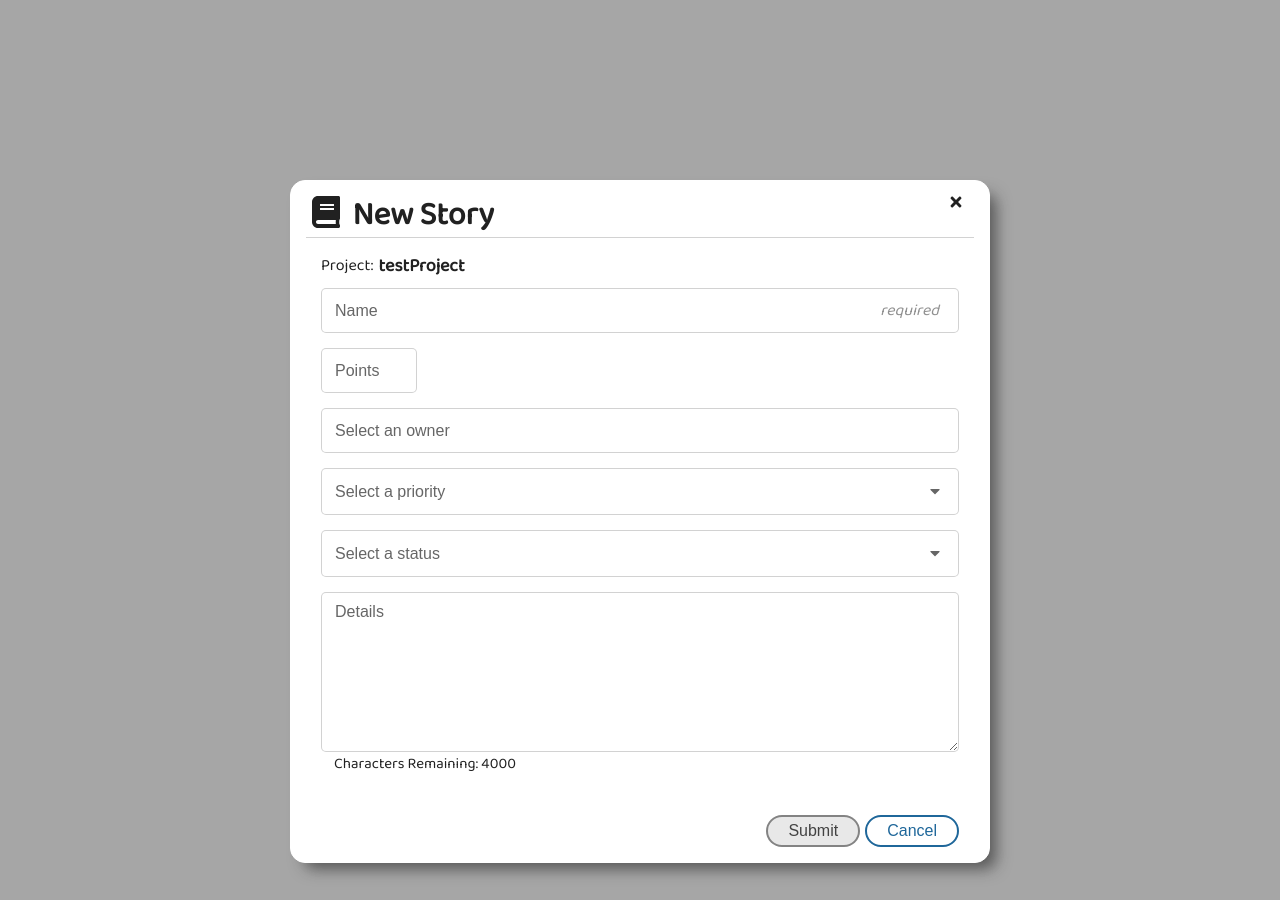
Test: <StoryModal /> › should render 'Characters Remaining' helperText for details
The image size is (1280, 900).
Type "this is a test value" into the text box with test id "detailsInput.input" at (640, 672), box [321,592,959,752]
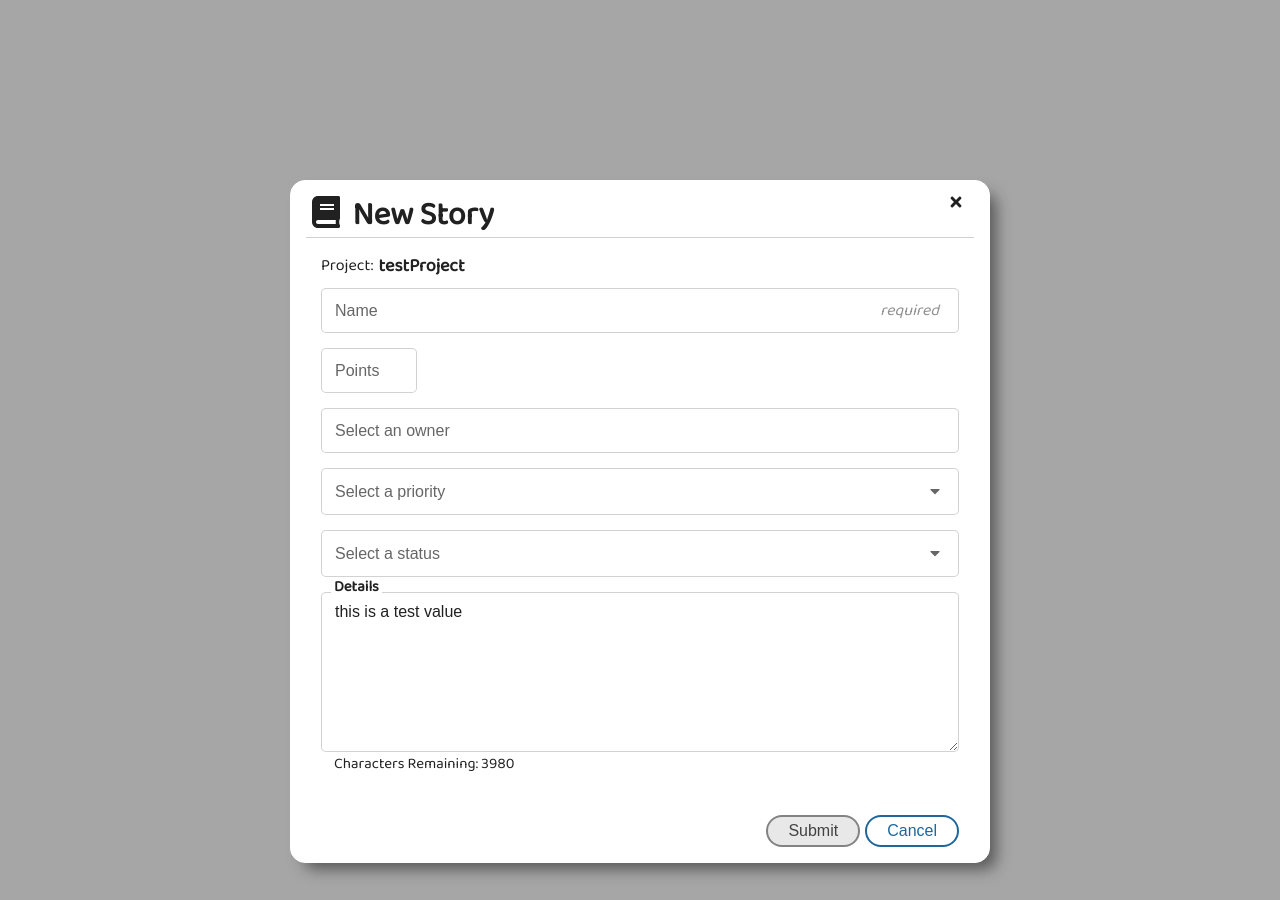
Now the text "Characters Remaining: 3980" is shown, box [334,752,514,776]
